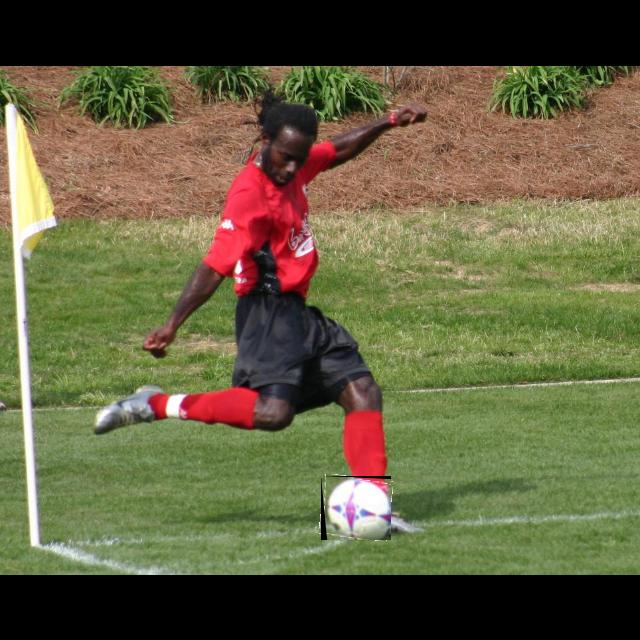Football: (321, 476, 391, 540)
